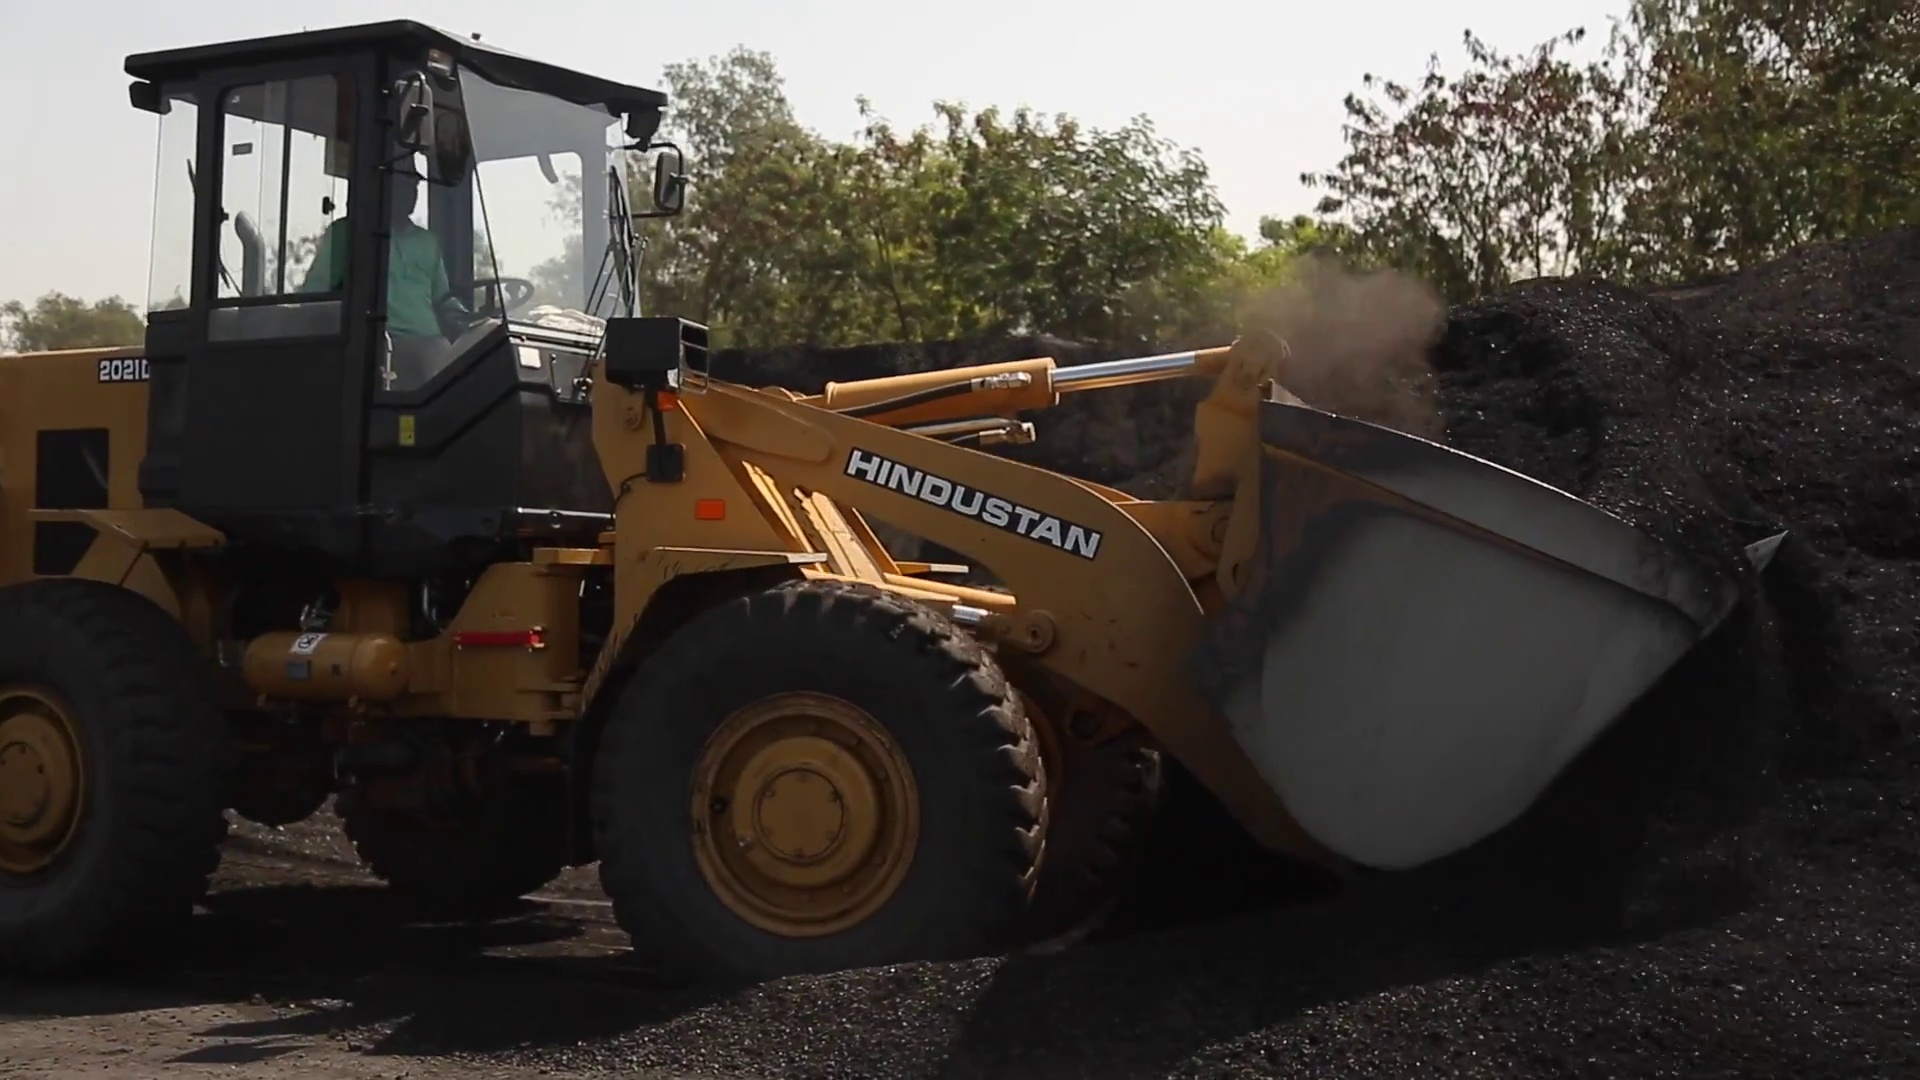person: (301, 149, 474, 350)
wheel loader: (3, 15, 1793, 963)
